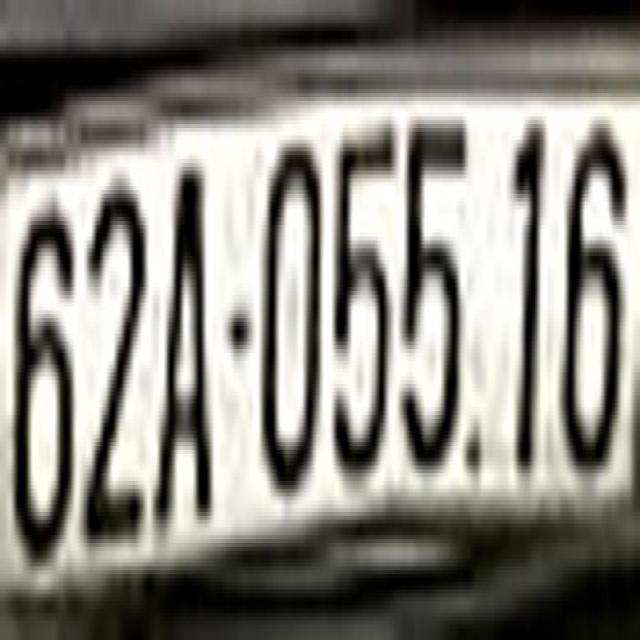0: (258, 128, 320, 496)
1: (502, 116, 542, 481)
2: (84, 186, 148, 551)
5: (330, 109, 393, 488), (400, 108, 464, 466)
6: (560, 105, 628, 481), (15, 186, 74, 566)
A: (154, 156, 216, 532)
